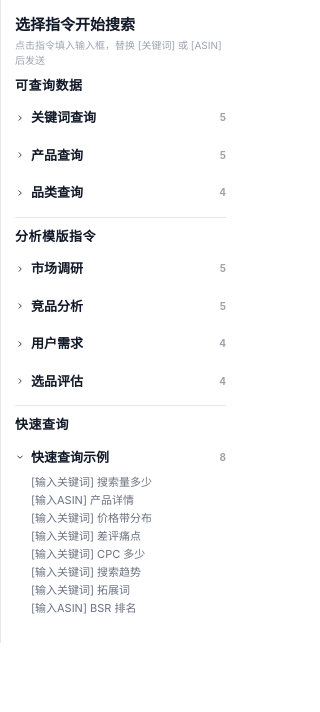
Scenario: DataReferencePanel › expands skill commands on click
What coordinates should you click on to do the following:
click the button "市场调研 5"
I would click on:
 (120, 269)
Its box is top-left (15, 255), bottom-right (226, 282).
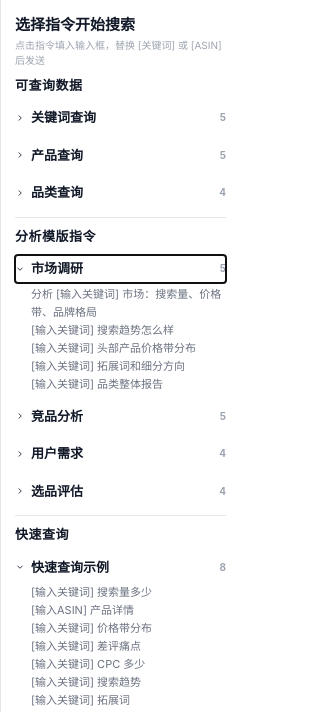
Expected: the text "分析 [输入关键词] 市场：搜索量、价格带、品牌格局" is shown, top-left (31, 284), bottom-right (226, 320)
